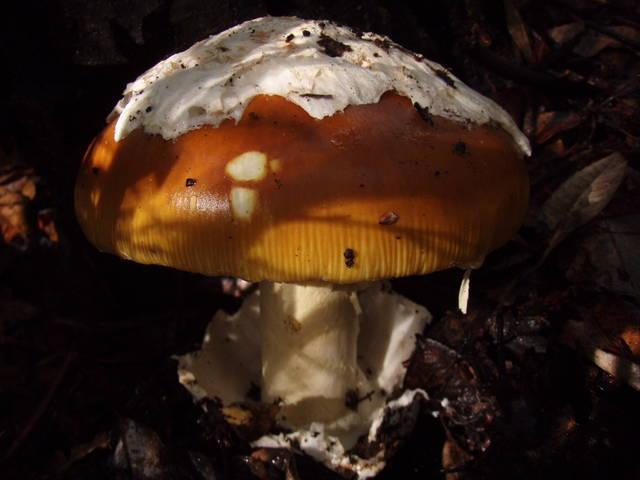edible_mushroom: (72, 13, 534, 460)
